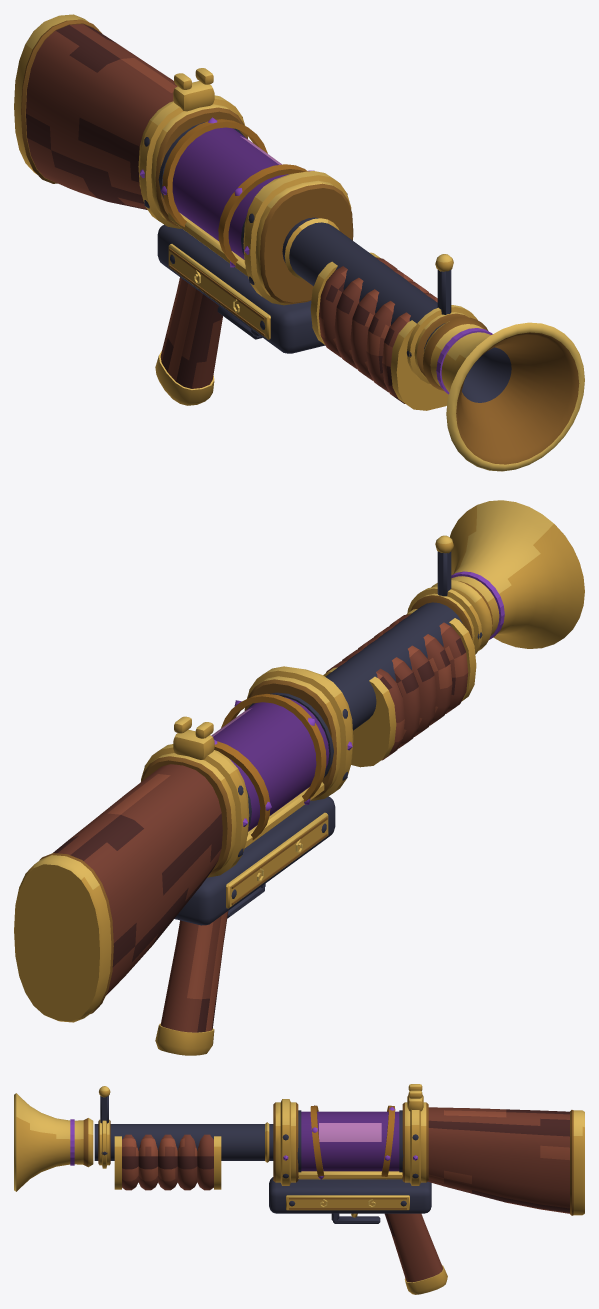
File: pump.glb
3 views of the same model, one above another, from view 1: azimuth 30°, elevation 25°; view 2: azimuth 150°, elevation 25°; view 3: azimuth 270°, elevation 25° (orthographic). The views are drawn at different scales.
Visible parts, largest first — view 1: Body, Stock, Muzzle, PumpGrip, Chamber, Rings, Runes; view 2: Body, Stock, Muzzle, PumpGrip, Chamber, Rings; view 3: Body, Stock, PumpGrip, Chamber, Muzzle, Rings, Runes.
Part boxes in pixels (x1,y1,x2,y2): Body: [138, 68, 477, 405]; Stock: [14, 14, 177, 209]; Muzzle: [423, 317, 584, 471]; PumpGrip: [310, 252, 448, 410]; Chamber: [172, 127, 288, 259]; Rings: [161, 117, 314, 267]; Runes: [139, 169, 492, 394]; Body: [141, 535, 482, 1055]; Stock: [14, 764, 222, 1022]; Muzzle: [431, 500, 584, 650]; PumpGrip: [323, 609, 476, 767]; Chamber: [211, 697, 329, 831]; Rings: [214, 694, 326, 839]; Body: [94, 1084, 447, 1294]; Stock: [428, 1107, 584, 1215]; PumpGrip: [114, 1134, 221, 1190]; Chamber: [301, 1111, 399, 1171]; Muzzle: [14, 1093, 93, 1191]; Rings: [310, 1105, 395, 1179]; Runes: [70, 1119, 417, 1165].
Bounding box in the file's own units: 0.16 × 0.365 × 0.92.
